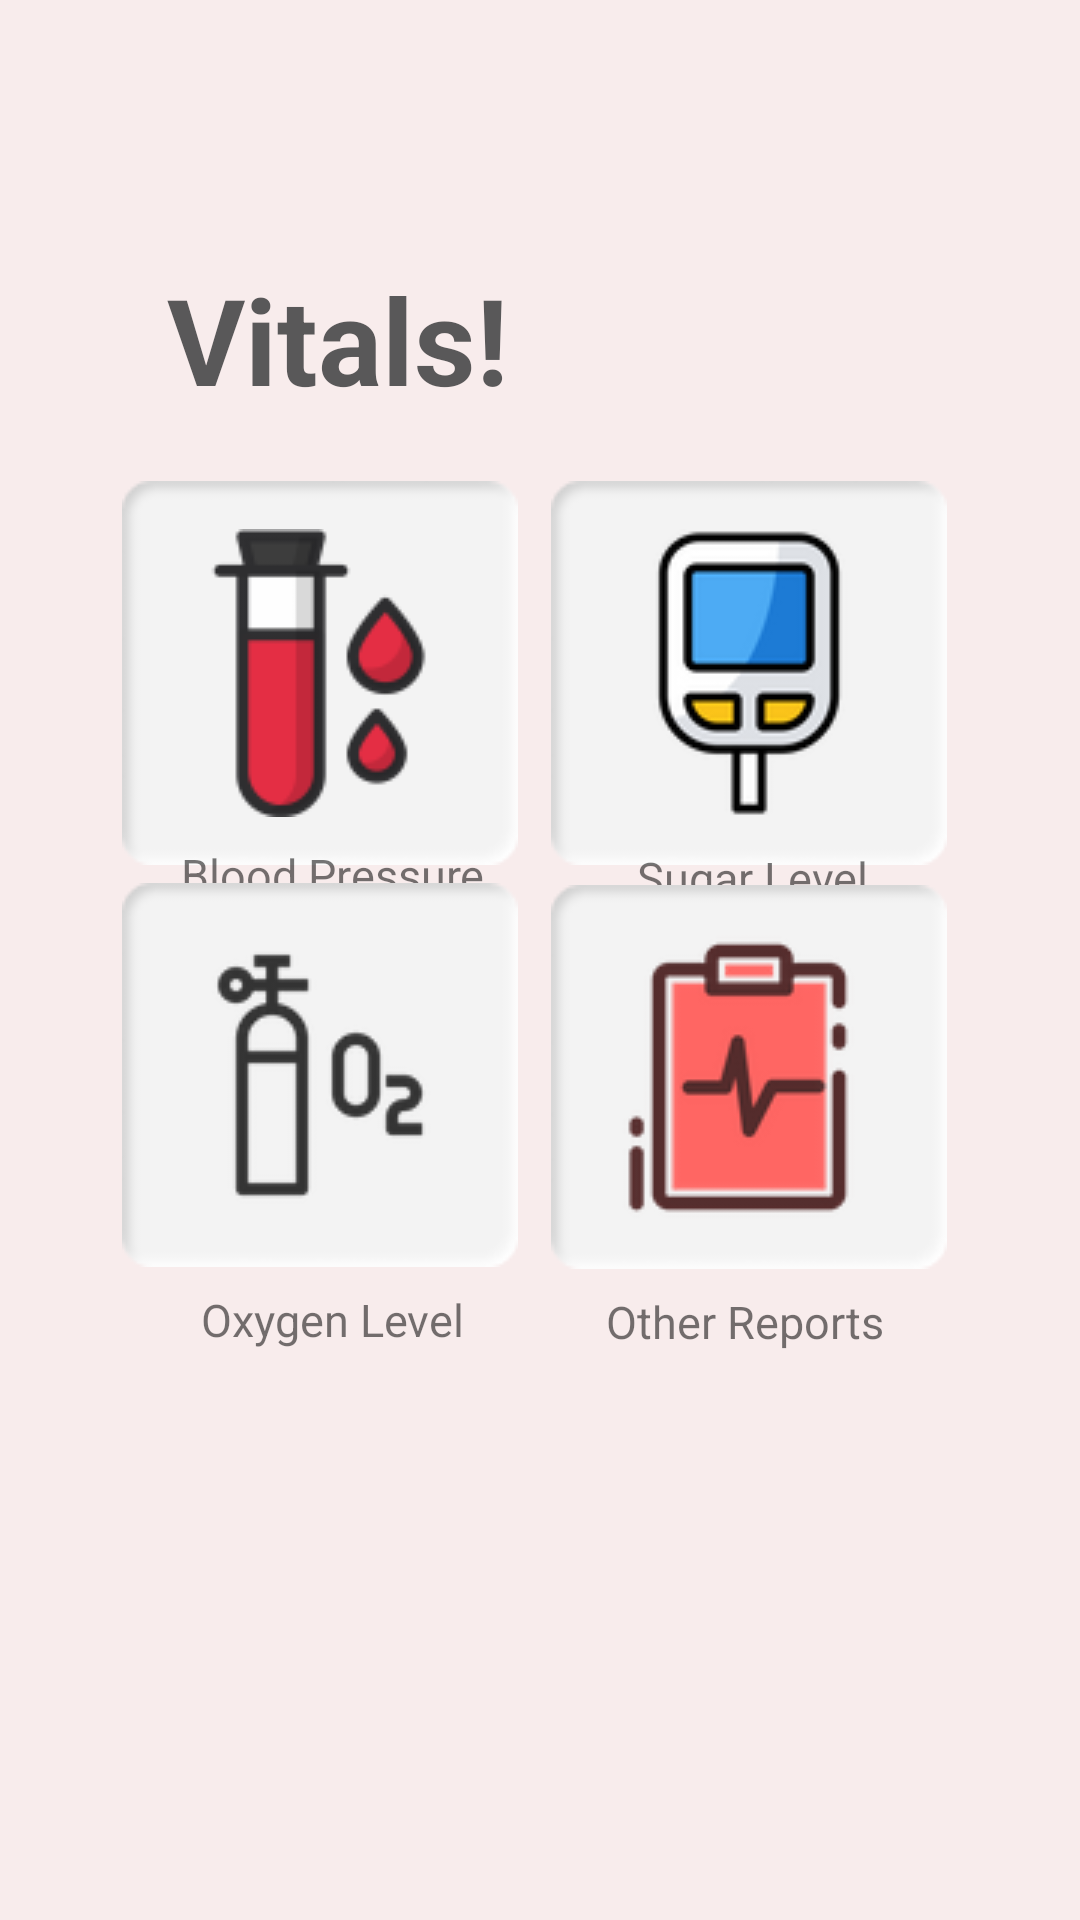

Icon bounding boxes for this 1080px x 1920px phone screenshot, format (x1, y1, x2, y2):
medicalreport: (628, 942, 848, 1212)
oxygentank: (217, 954, 423, 1197)
